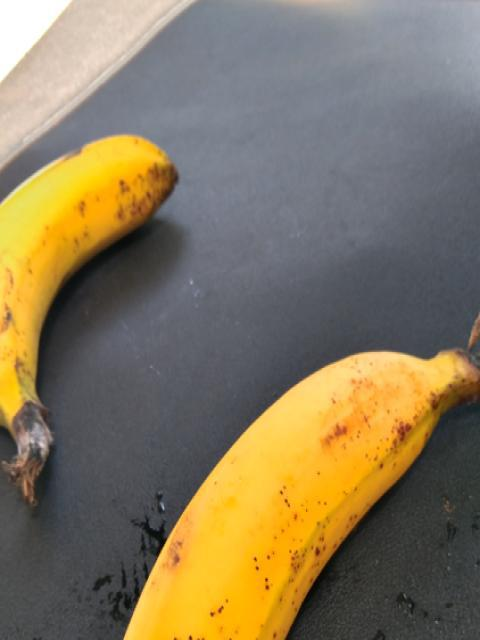ripe: (107, 334, 447, 639), (0, 117, 208, 458)
